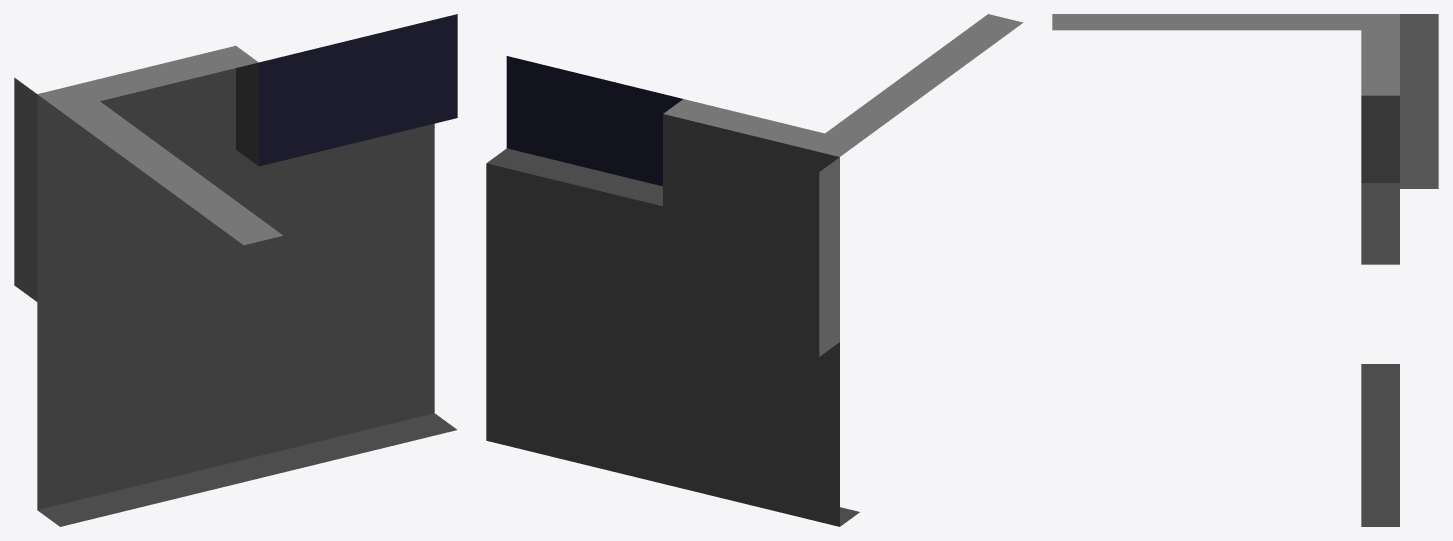
The model's file is Straight_Edge_Wall_Roof_Right.obj.
3 renders of one model, left to right at view 1: azimuth 30°, elevation 25°; view 2: azimuth 150°, elevation 25°; view 3: azimuth 270°, elevation 25°, orthographic. The views are drawn at different scales.
Parts seen in each view (by area): view 1: Straight_Edge_Wall_Roof_Right; view 2: Straight_Edge_Wall_Roof_Right; view 3: Straight_Edge_Wall_Roof_Right.
Part boxes in pixels (left/top/right/bottom): Straight_Edge_Wall_Roof_Right: left=14, top=14, right=457, bottom=526; Straight_Edge_Wall_Roof_Right: left=486, top=14, right=1022, bottom=526; Straight_Edge_Wall_Roof_Right: left=1052, top=14, right=1438, bottom=526.
Bounding box in the file's own units: 1 × 1 × 1.
